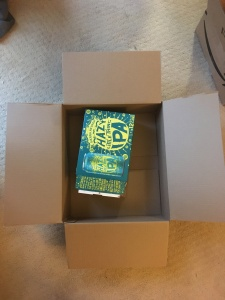innerbox: (63, 104, 168, 222)
outerbox: (9, 52, 225, 271)
product: (77, 111, 132, 196)
